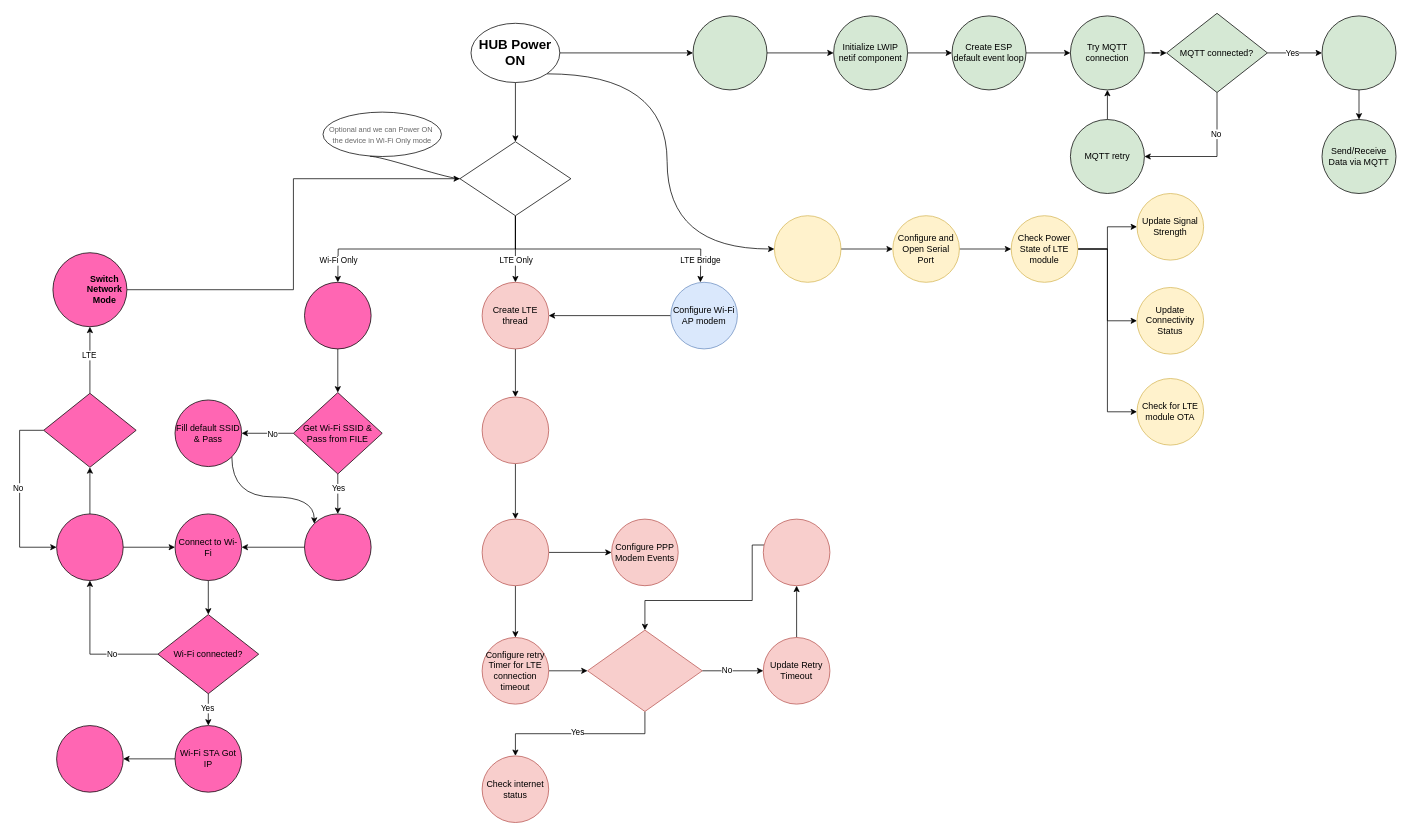
The diagram is 1409 pixels wide and 835 high, and some of its shapes have lost their labels. Here are the shapes that lost their labels. From the top down, the centre of each, then its label:
At pixel 729 52: "Create MQTT thread".
At pixel 1358 52: "Subscribe the topics".
At pixel 515 178: "Read Network mode from FILE".
At pixel 807 248: "Create LTE AT Commands Task".
At pixel 337 315: "Create Wi-Fi thread".
At pixel 89 430: "Wi-Fi Retry Timeout".
At pixel 515 430: "Power ON LTE Module".
At pixel 89 547: "Wi-Fi retry logic".
At pixel 337 547: "Configure Wi-Fi STA with SSID and Pass".
At pixel 515 552: "Connect the PPP modem interface".
At pixel 796 552: "LTE Reconnect logic".
At pixel 644 670: "LTE connection success".
At pixel 89 758: "Wi-Fi Connected Event".
